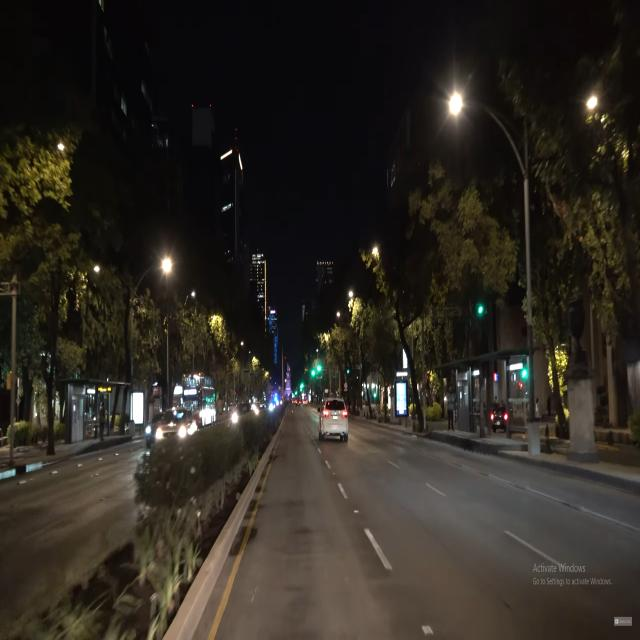headlights: (153, 424, 189, 446)
